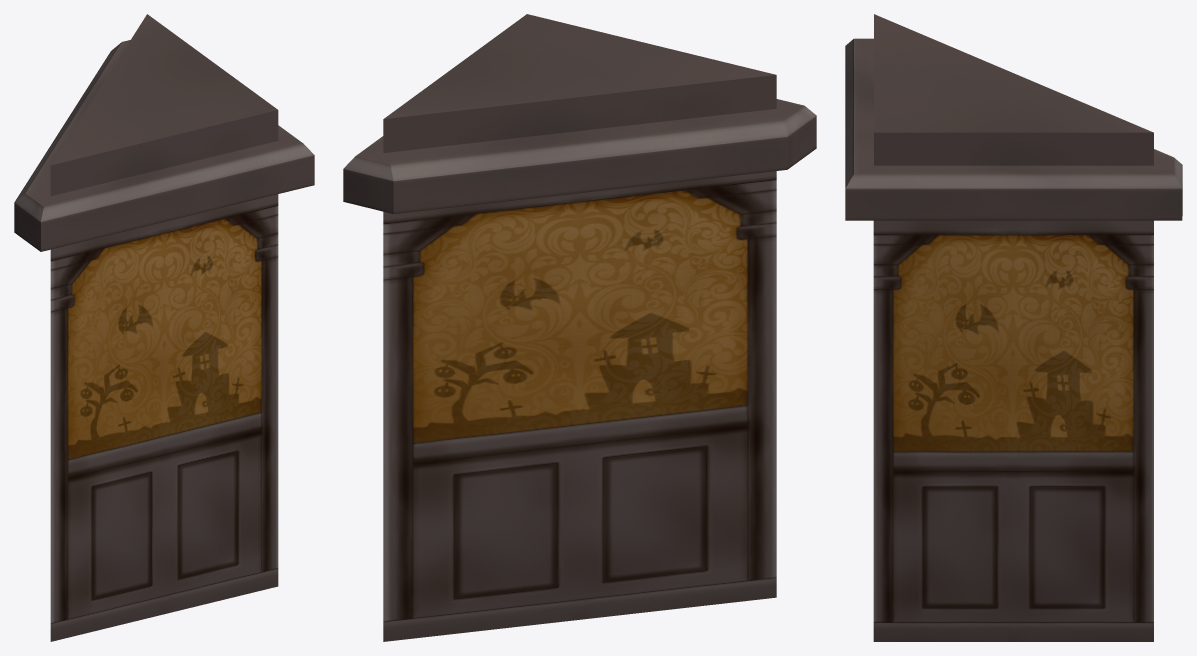
The model's file is wall_h_tri_kado.fbx.
3 renders of one model, left to right at view 1: azimuth 30°, elevation 25°; view 2: azimuth 150°, elevation 25°; view 3: azimuth 270°, elevation 25°, orthographic. The views are drawn at different scales.
Visible parts, largest first — view 1: wall_tri_half:polySurface26; view 2: wall_tri_half:polySurface26; view 3: wall_tri_half:polySurface26.
Boxes of the visible parts, box(x1,y1,x2,y2) form: wall_tri_half:polySurface26: box(14, 14, 314, 641); wall_tri_half:polySurface26: box(343, 14, 816, 641); wall_tri_half:polySurface26: box(845, 14, 1182, 641).
Size of the model in its own units: 2.57 by 4.28 by 2.57.
